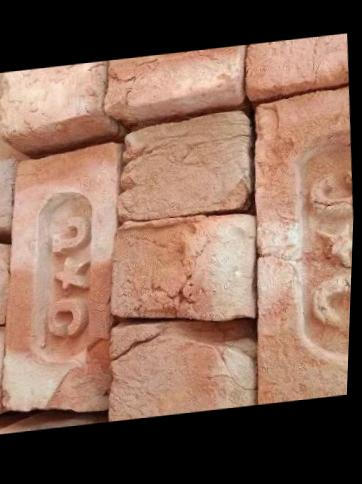brick: (240, 78, 359, 405), (0, 142, 135, 422), (108, 209, 259, 331), (101, 314, 258, 422), (114, 111, 255, 222), (97, 45, 246, 109), (0, 61, 103, 138), (243, 33, 351, 98), (0, 159, 18, 236), (0, 238, 13, 321)
